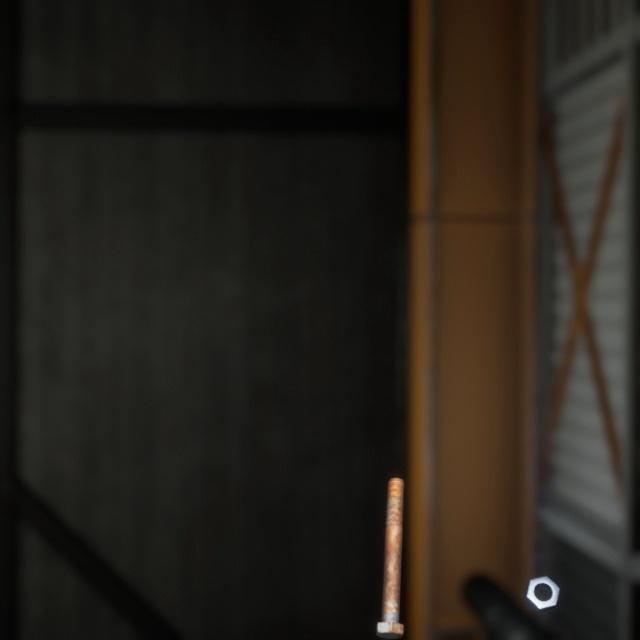bolt: (371, 452, 408, 621)
nut: (519, 548, 564, 593)
